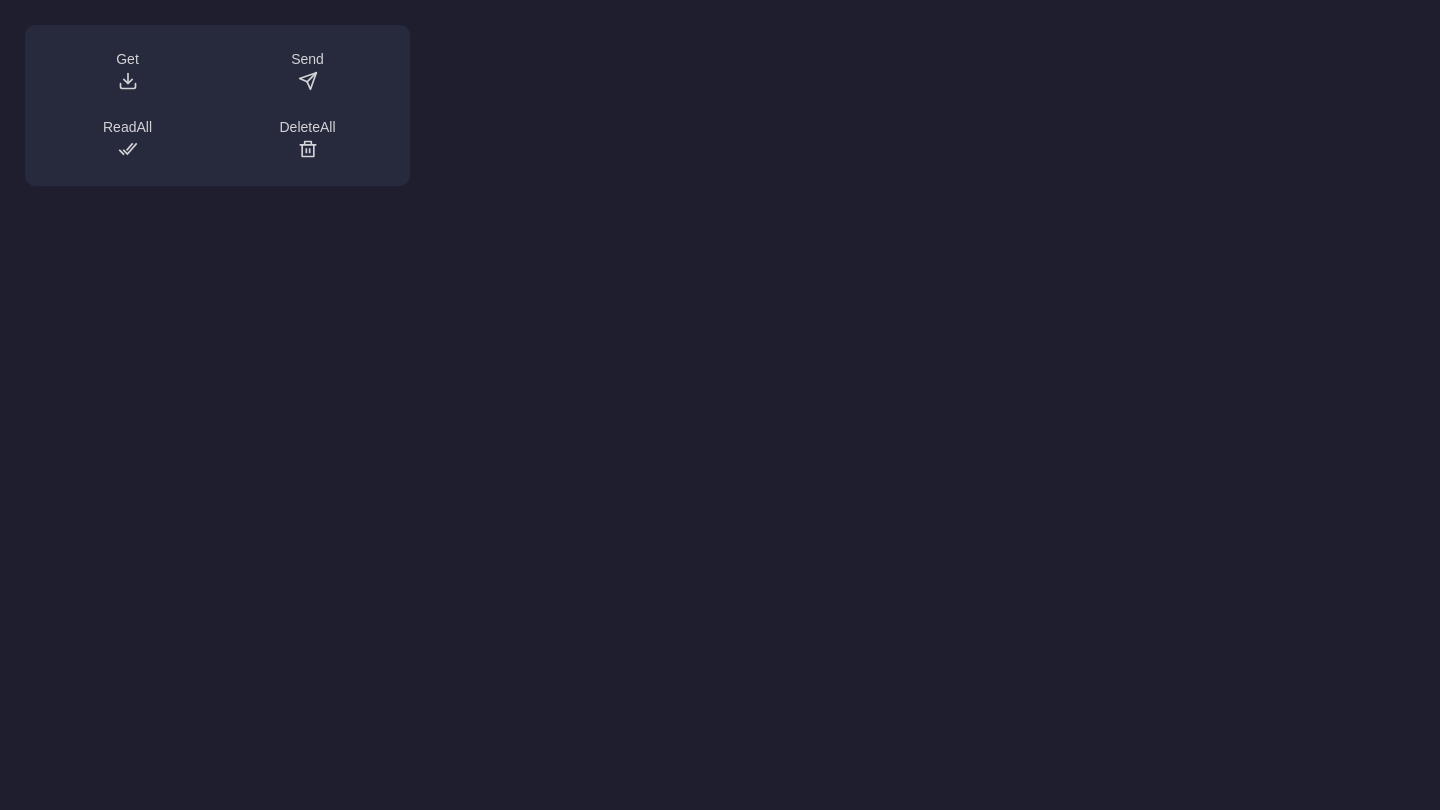
UtilitiesGroup componenet › Clicking the 'send' button should display the form
This screenshot has width=1440, height=810.
Click the button "Send": (308, 72) top-left (218, 38), bottom-right (398, 106)
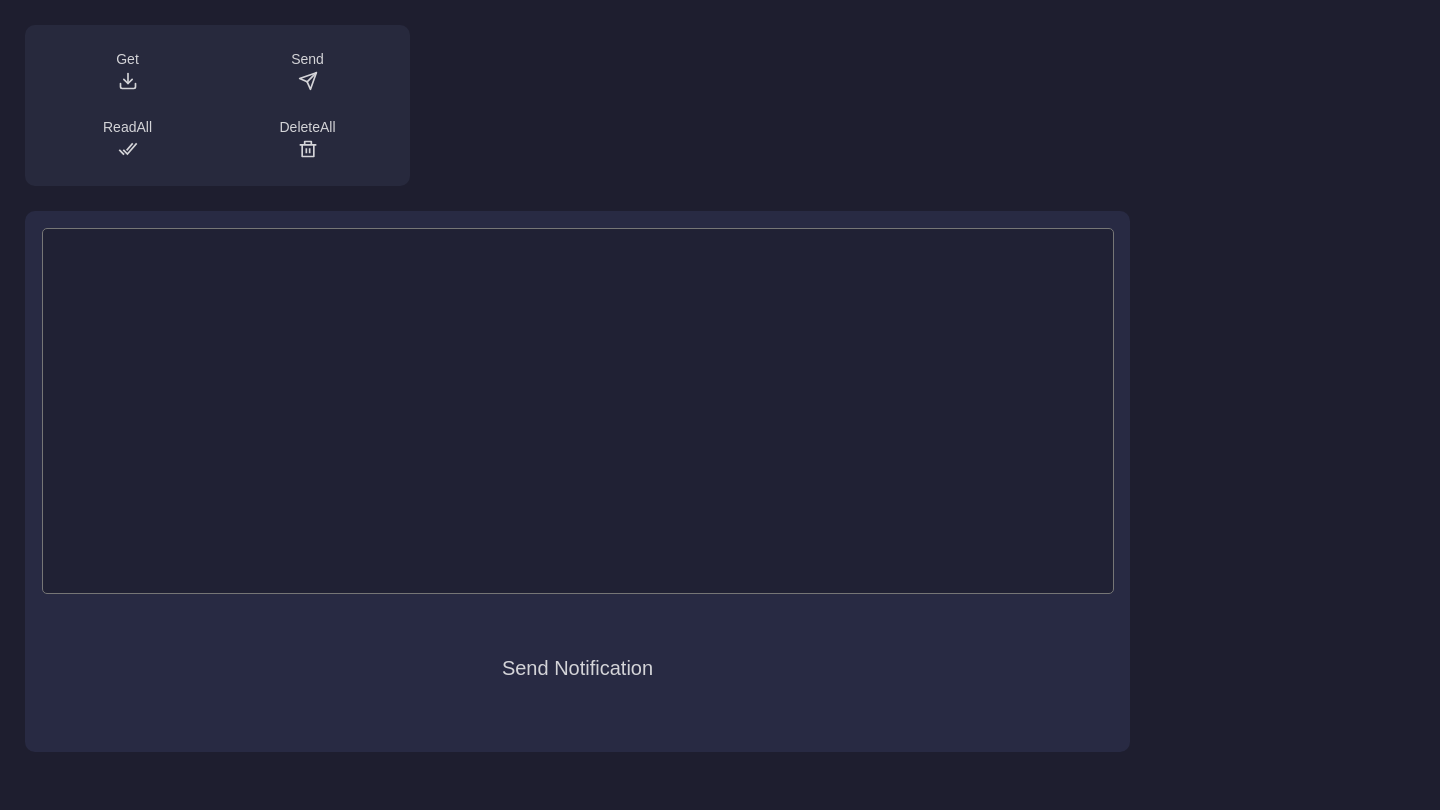
Result: the form with test id "sendNotificationform" is shown at top-left (25, 211), bottom-right (1130, 752)
